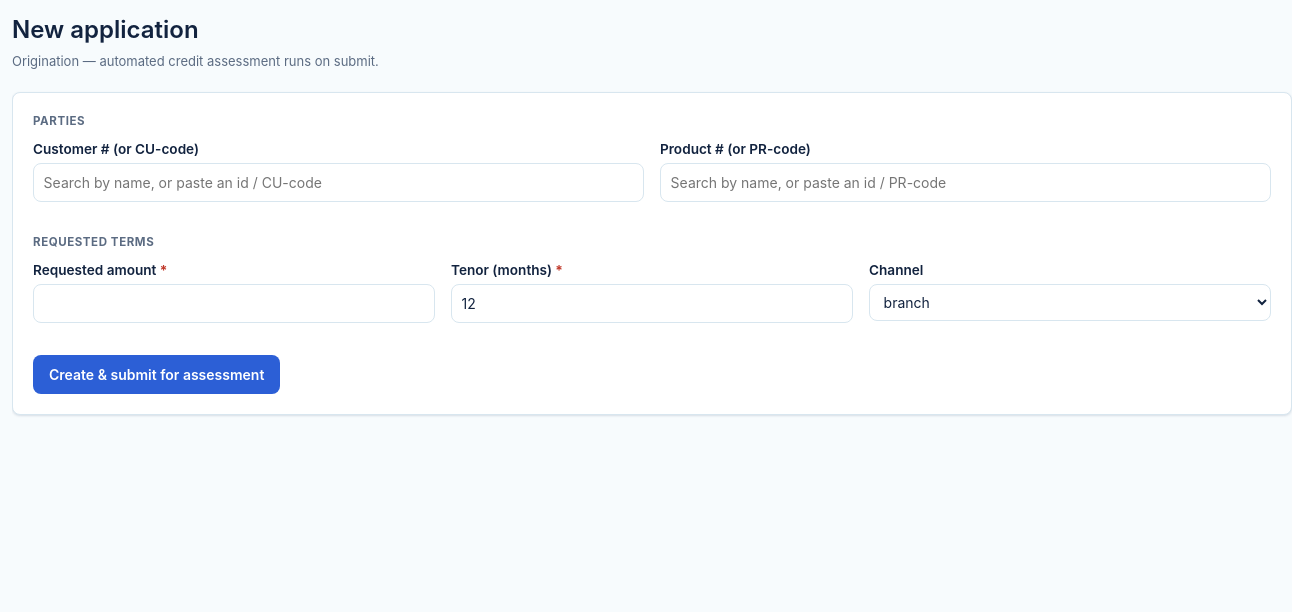
Part C — reference codes › Application screen shows AP- code after submit
Type "1" into the field labelled "Customer # (or CU-code)". click: {"x": 338, "y": 182}
box: [33,163,644,202]
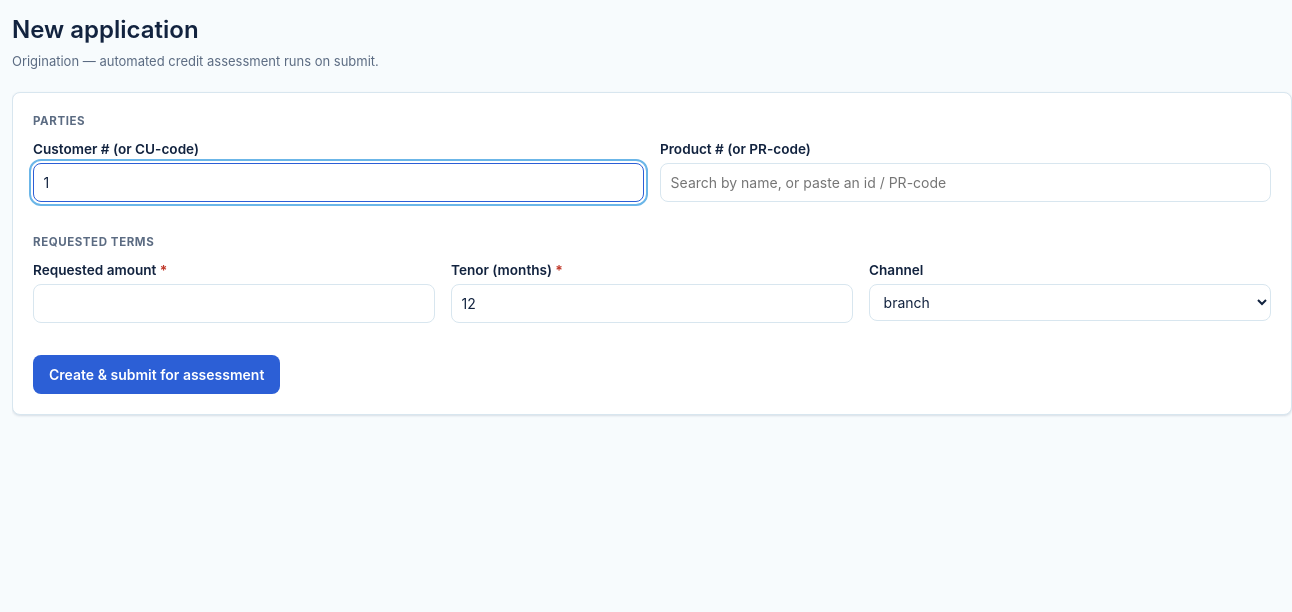
Type "1" into the field labelled "Product # (or PR-code)". click: {"x": 966, "y": 182}
box: [660,163,1271,202]
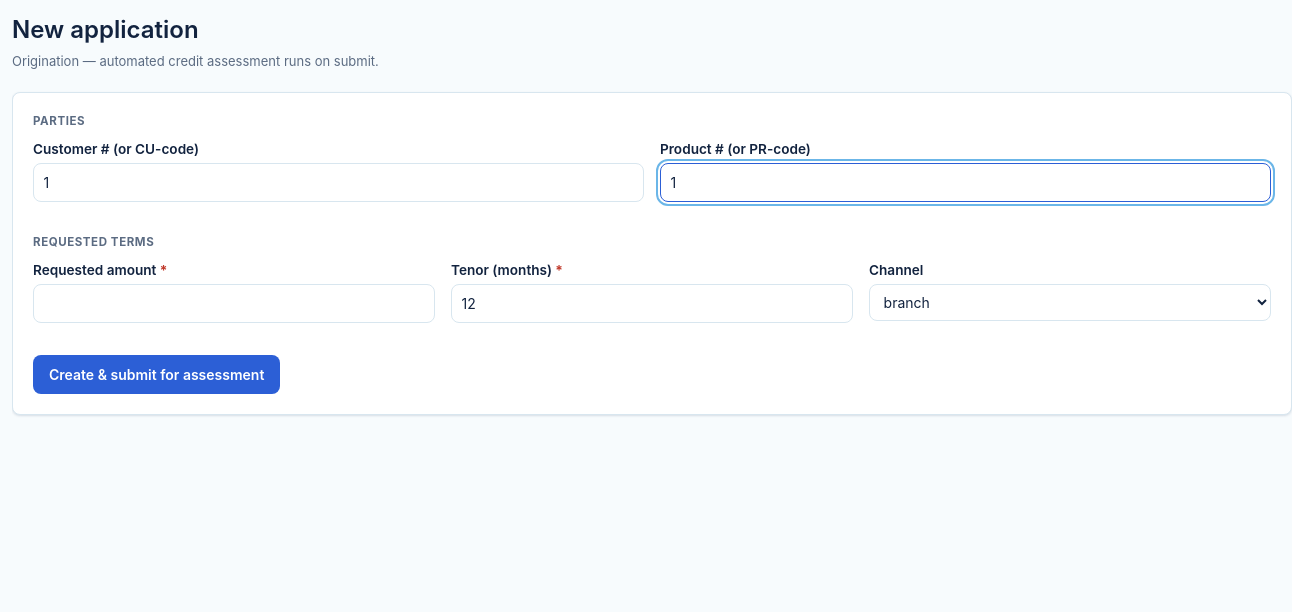
Type "1000" into the field labelled "Requested amount". click: {"x": 234, "y": 304}
box: [33,284,435,323]
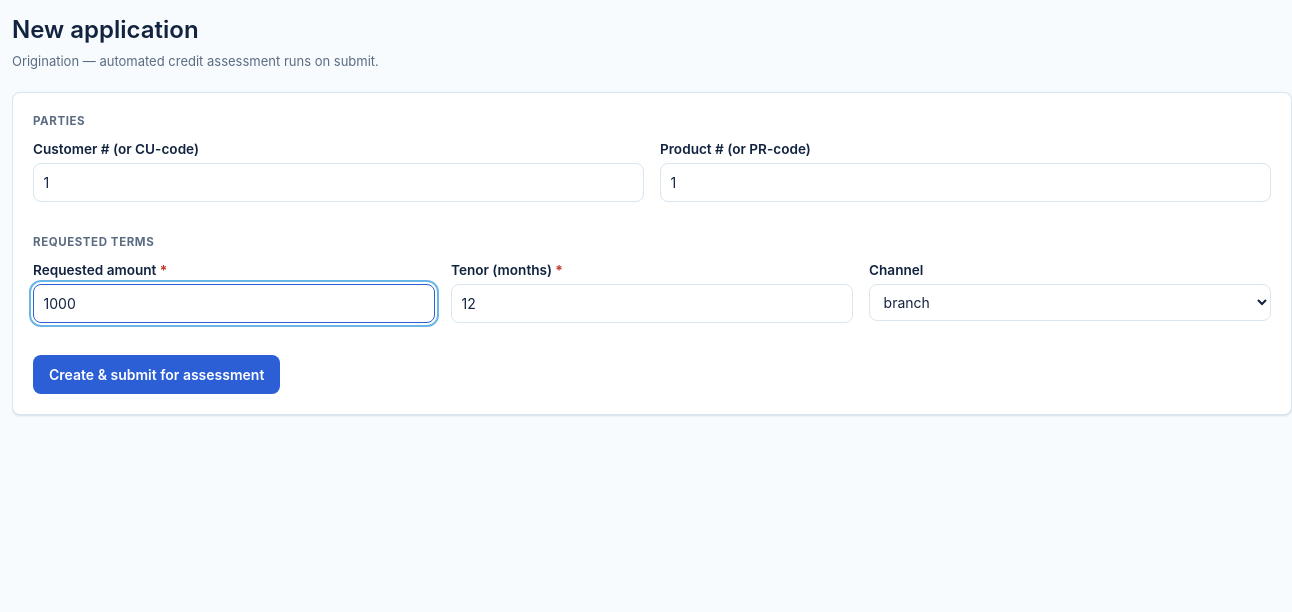
Click the button "Create & submit for assessment". click: {"x": 157, "y": 375}
box: [33,355,280,394]
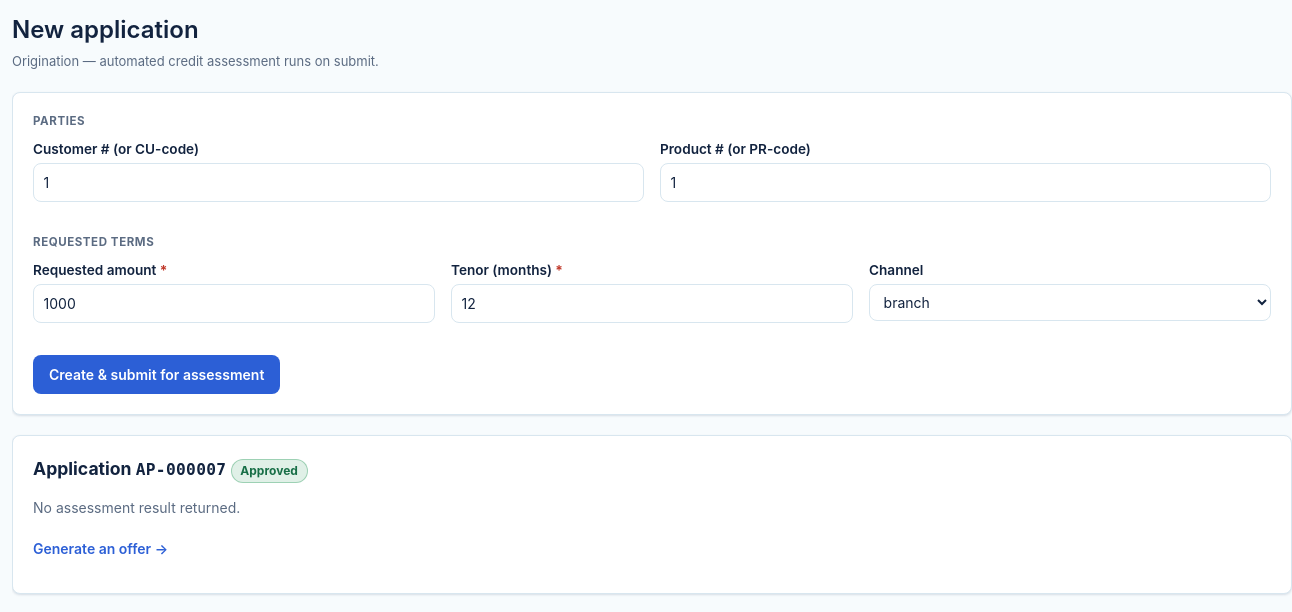
Result: the text "AP-000007" is shown at [136,460,226,479]
